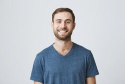male: (52, 8, 76, 41)
